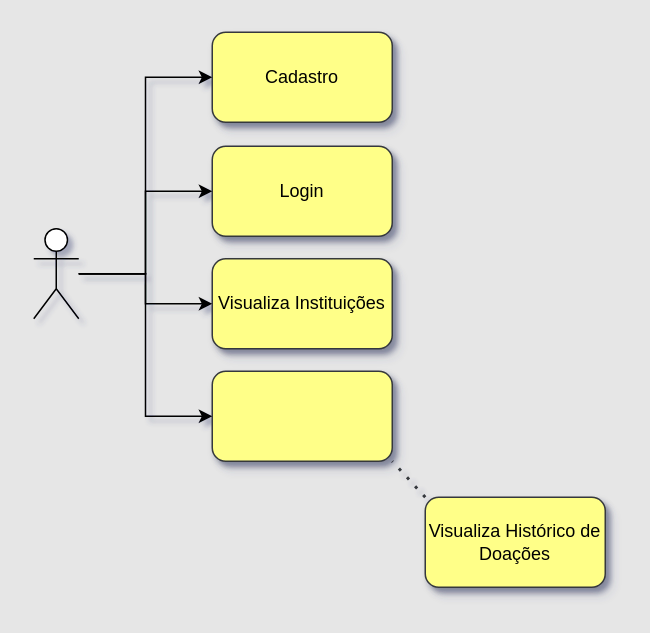
The diagram is 650 pixels wide and 633 high, and some of its shapes have lost their labels. Each missing label, with the centre of its shape:
Realiza Doações: (303,418)
Usuário: (55,273)
